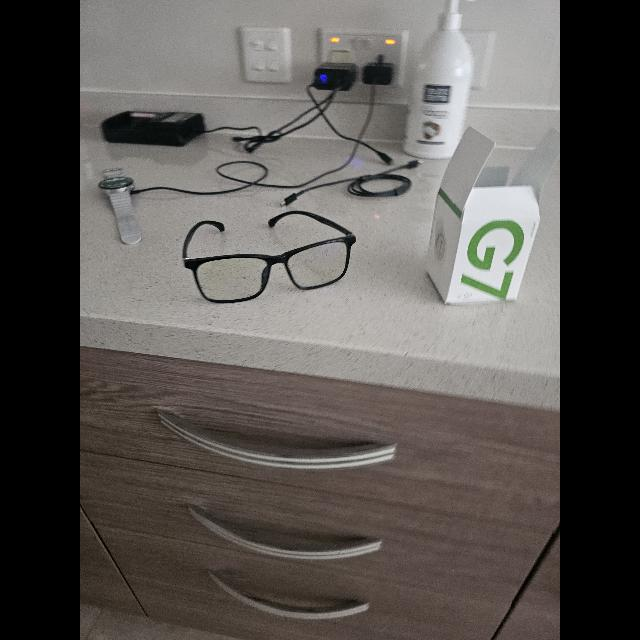glasses: (182, 211, 356, 303)
